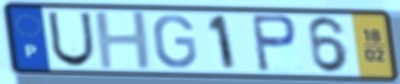1: (207, 13, 239, 72)
6: (305, 14, 353, 76)
G: (152, 13, 200, 71)
H: (92, 10, 156, 72)
P: (249, 13, 300, 75)
U: (45, 10, 97, 69)
